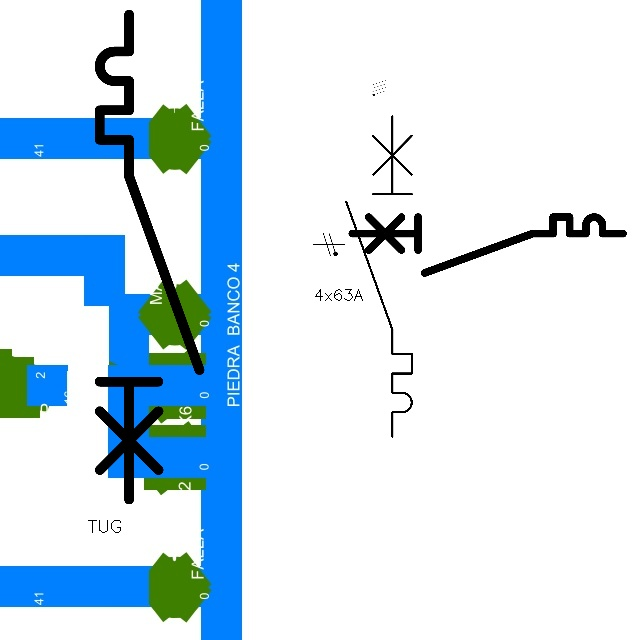interruptor_termomagnetico: (87, 2, 212, 512), (338, 108, 420, 445), (345, 210, 630, 279)
